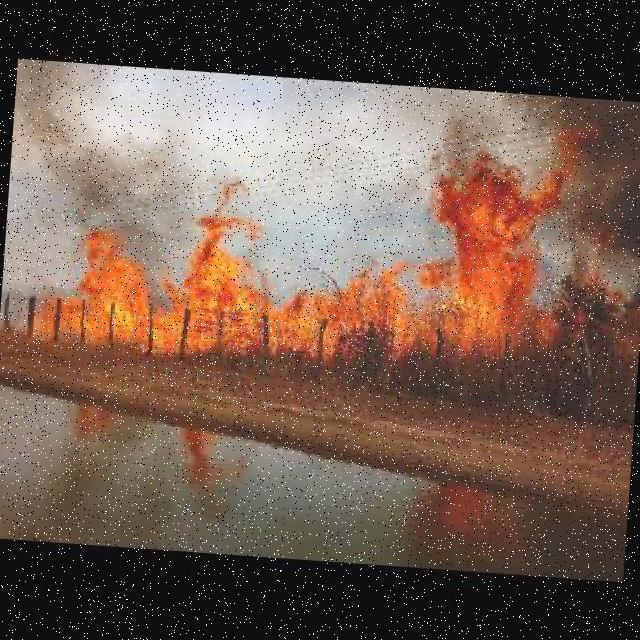Fire: (25, 114, 640, 390)
Smoke: (5, 55, 202, 289), (508, 93, 640, 254)
